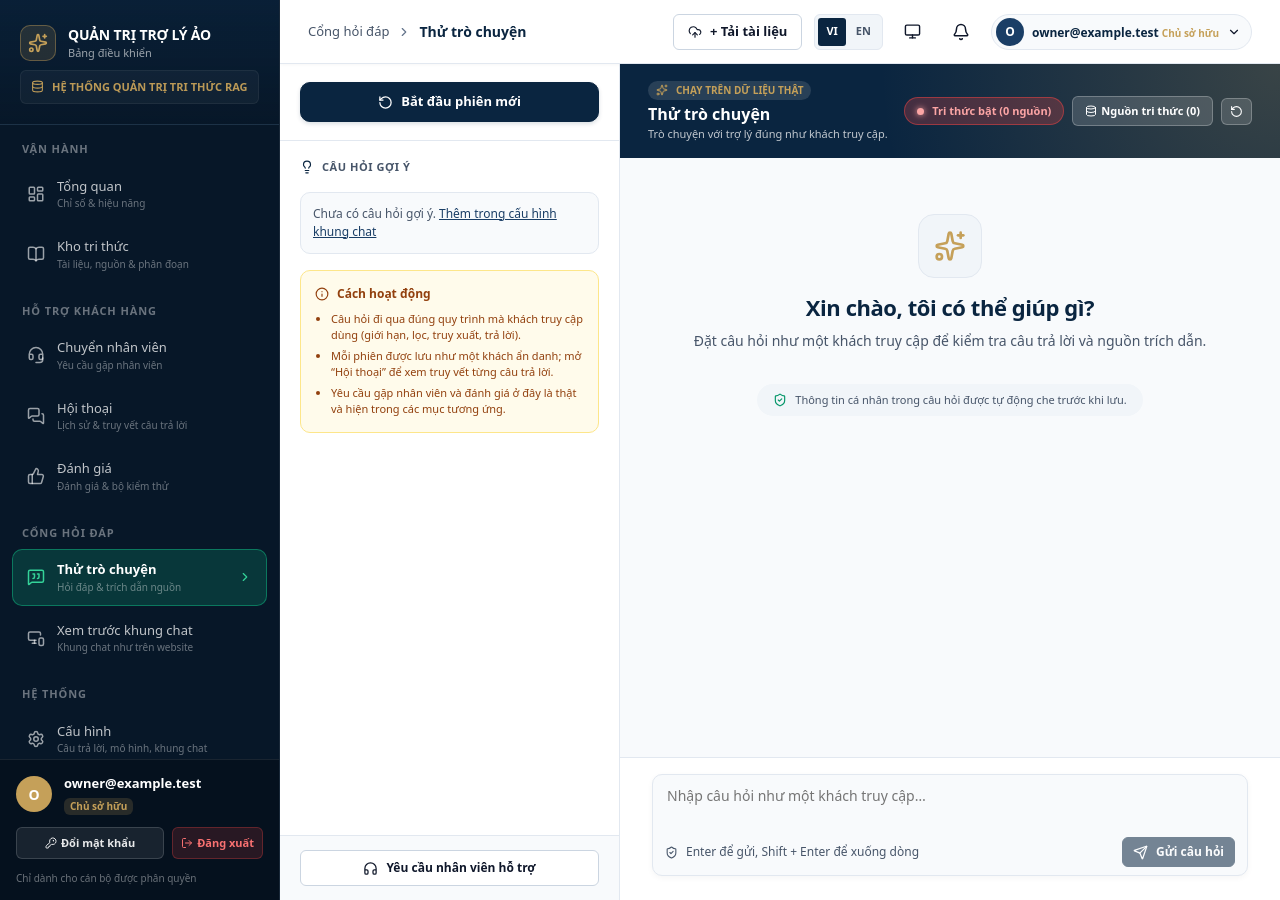
Test: demo chat › streams an answer with its outcome, citation and trace link
Step 1. Type "Giờ làm việc?" into the text box labelled "câu hỏi" → coordinates (950, 806), box x1=665 y1=783 x2=1235 y2=829
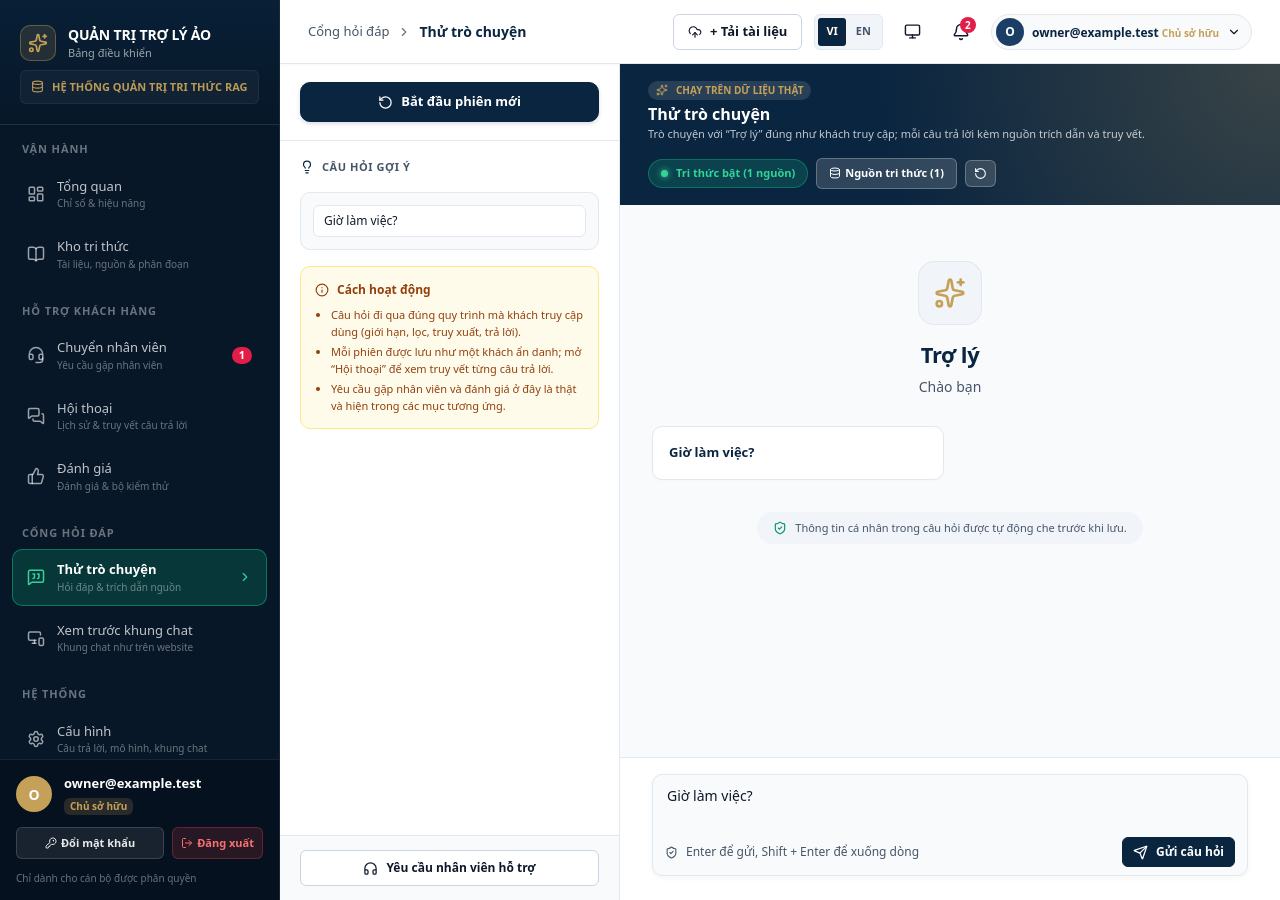
Step 2. Click the button "Gửi câu hỏi" → coordinates (1178, 852), box x1=1122 y1=837 x2=1235 y2=867
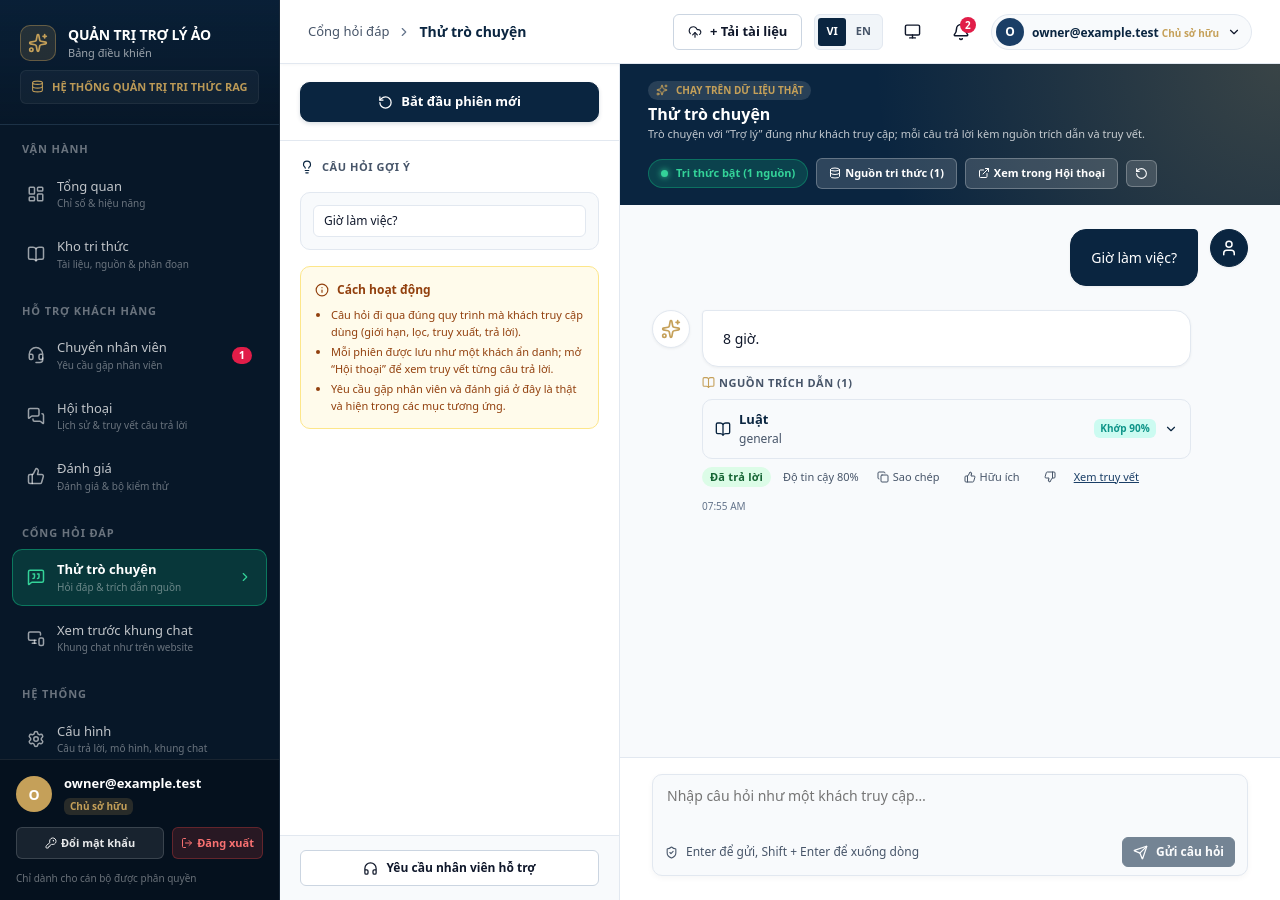
Result: the text "8 giờ." is shown at x1=723 y1=329 x2=759 y2=348
Result: the text "Đã trả lời" is shown at x1=702 y1=467 x2=771 y2=487
Result: the text "Luật" is shown at x1=739 y1=410 x2=768 y2=428
